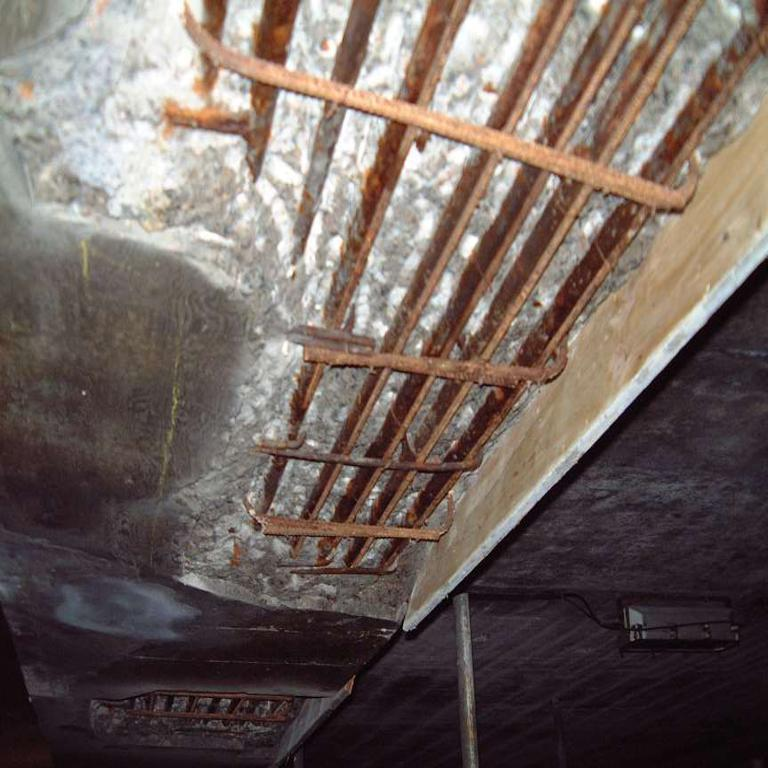exposed_rebar: (168, 0, 768, 367), (290, 326, 567, 461), (258, 440, 480, 525), (255, 496, 454, 568), (291, 566, 398, 575)
spalling: (0, 0, 768, 617)
